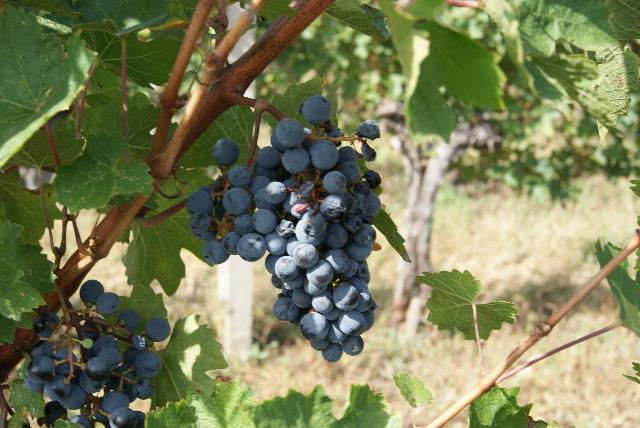grapes: (185, 95, 381, 362), (24, 280, 170, 428)
